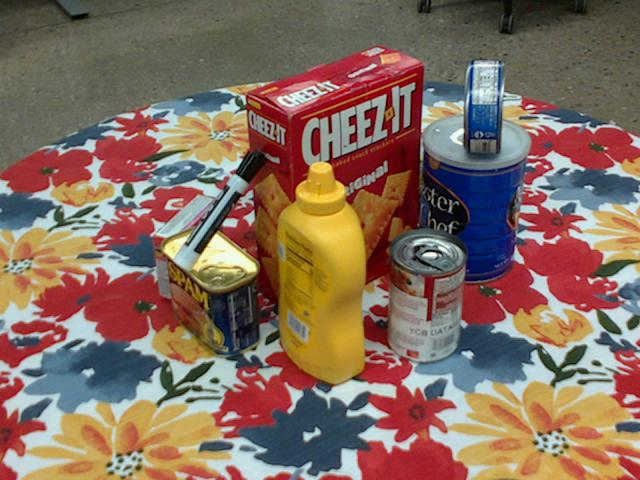cracker_box: (245, 45, 425, 317)
gelatin_box: (153, 193, 223, 302)
large_marker: (173, 148, 265, 270)
master_chef_can: (420, 114, 528, 285)
mug: (253, 125, 350, 224)
mustard_bottle: (278, 161, 366, 384)
potted_meat_can: (161, 225, 261, 358)
sugar_box: (308, 89, 468, 209)
tomato_soup_can: (387, 229, 467, 363)
tuna_fish_can: (465, 59, 504, 152)
